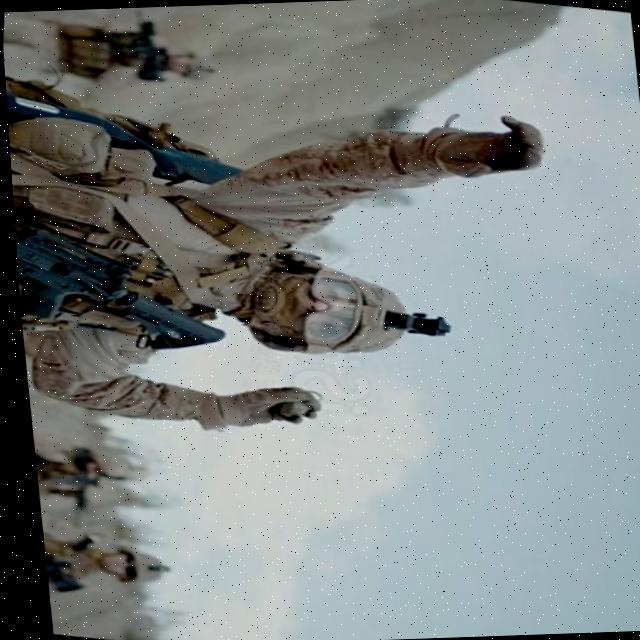grenade: (267, 381, 324, 425)
